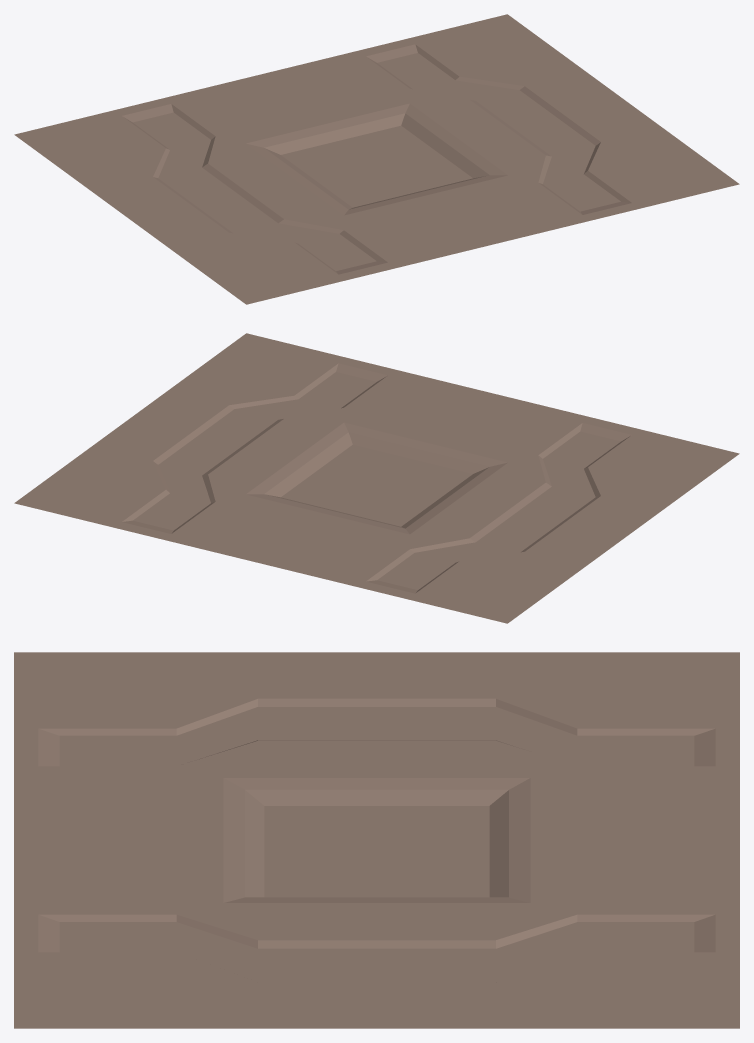
File: floor_1_placeholder.fbx
3 views of the same model, one above another, from view 1: azimuth 30°, elevation 25°; view 2: azimuth 150°, elevation 25°; view 3: azimuth 270°, elevation 25° (orthographic). The views are drawn at different scales.
Parts seen in each view (by area): view 1: pCube9; view 2: pCube9; view 3: pCube9.
Boxes of the visible parts, x1,y1,x2,y2 form: pCube9: (14, 14, 739, 304); pCube9: (14, 333, 739, 623); pCube9: (14, 652, 739, 1028).
Bounding box in the file's own units: 82.27 × 1.15 × 67.09.
